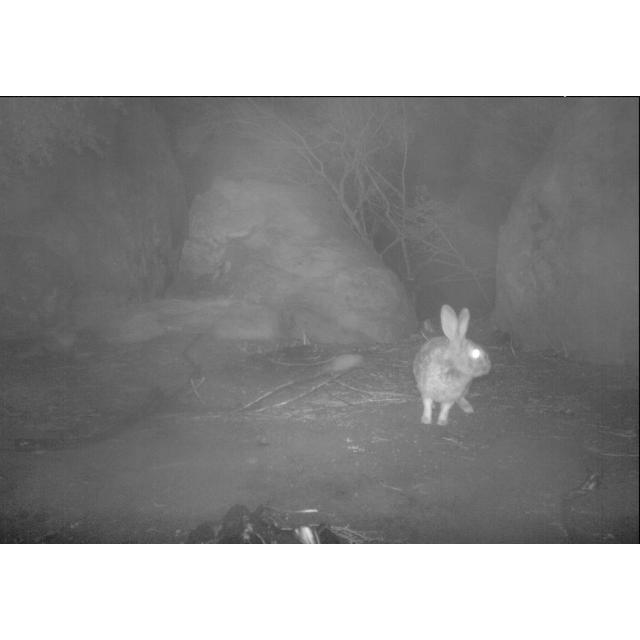animals: (412, 302, 492, 428)
